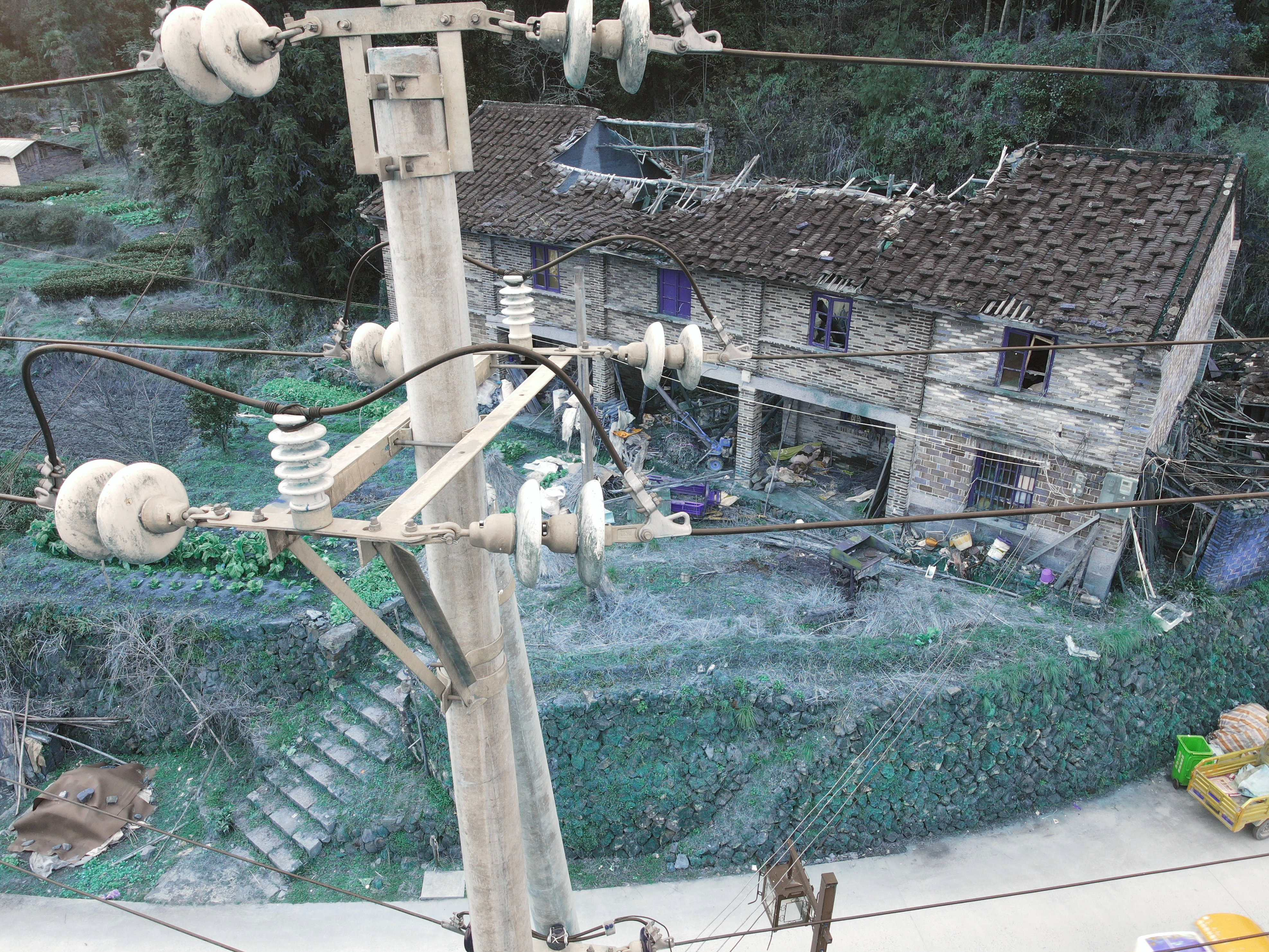severe_soiling_no_discharge_whole: (470, 475, 610, 591), (53, 455, 191, 566), (157, 2, 288, 110), (523, 2, 654, 97), (267, 410, 335, 529), (616, 319, 705, 391), (349, 320, 400, 385)
